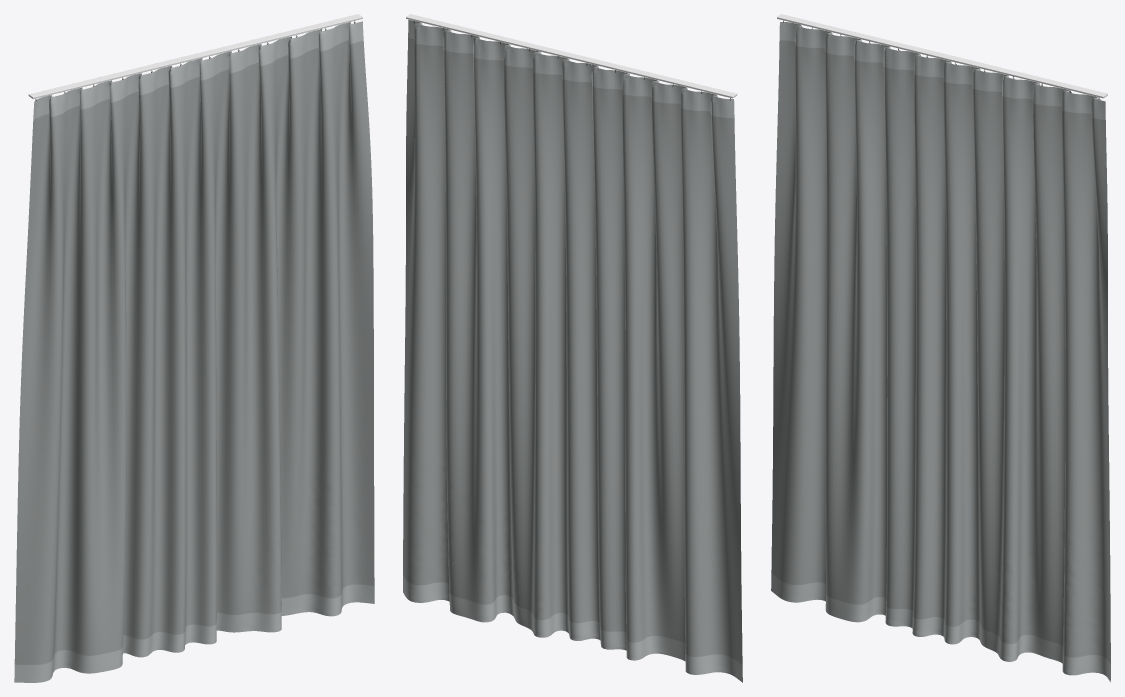
Rendered from curtain_01_04.001.fbx.
3 renders of one model, left to right at view 1: azimuth 30°, elevation 25°; view 2: azimuth 150°, elevation 25°; view 3: azimuth 330°, elevation 25°, orthographic.
Visible parts, largest first — view 1: curtain_01_04.001; view 2: curtain_01_04.001; view 3: curtain_01_04.001.
Boxes of the visible parts, bbox=[...] form: curtain_01_04.001: bbox=[14, 14, 374, 682]; curtain_01_04.001: bbox=[403, 14, 742, 682]; curtain_01_04.001: bbox=[771, 14, 1110, 682].
Bounding box in the file's own units: 140 × 224 × 12.1.
1 material, 1 textured.
